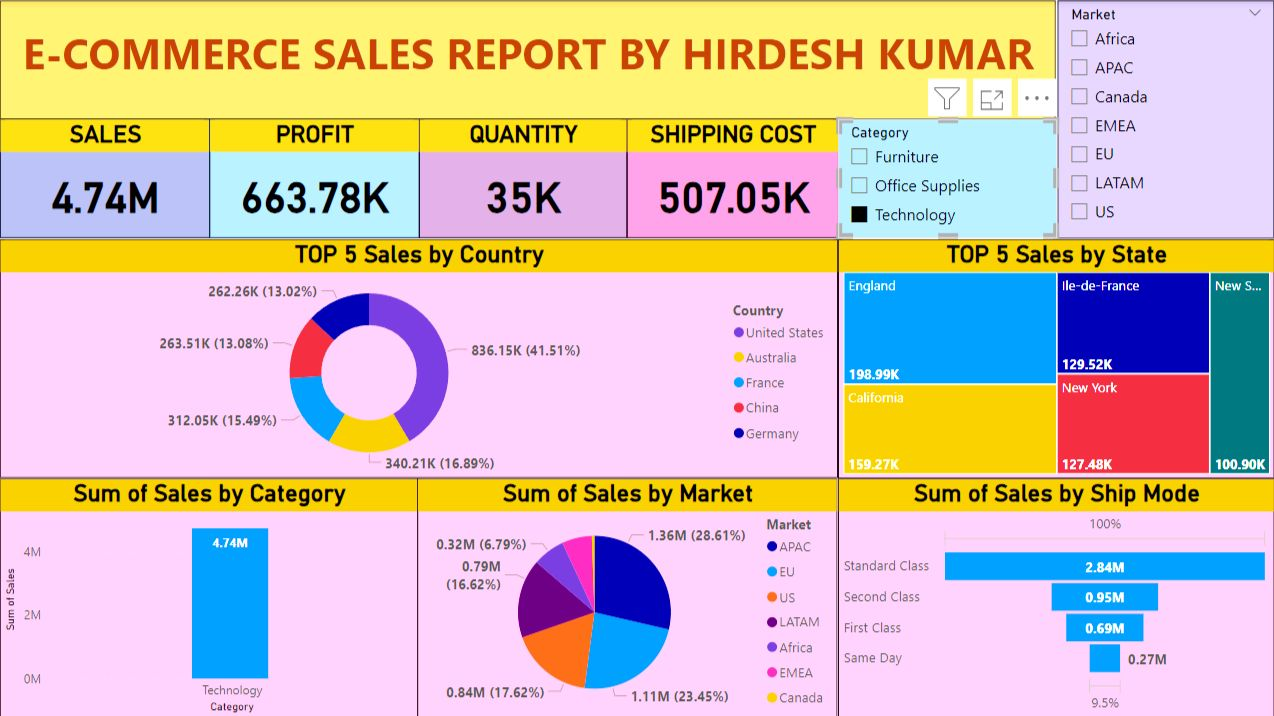

This screenshot's page, from the dashboard's own definition file:
{"tool":"powerbi","page":{"name":"Page 1","canvas":[1280,720],"ordinal":0},"visuals":[{"type":"columnChart","fields":{"Category":["Orders.Category"],"Y":["Sum(Orders.Sales)"]},"box":[0,480,420,240],"z":0},{"type":"pieChart","fields":{"Category":["Orders.Market"],"Y":["Sum(Orders.Sales)"]},"box":[420,480,421.8,240],"z":1000},{"type":"funnel","fields":{"Category":["Orders.Ship Mode"],"Y":["Sum(Orders.Sales)"]},"box":[841.8,480,438.2,240],"z":2000},{"type":"donutChart","title":"TOP 5 Sales by Country","fields":{"Category":["Orders.Country"],"Y":["Sum(Orders.Sales)"]},"box":[0,239.6,841.7,239.6],"z":3000},{"type":"treemap","title":"TOP 5 Sales by State","fields":{"Group":["Orders.State"],"Values":["Sum(Orders.Sales)"]},"box":[841.8,240,438.2,240],"z":4000},{"type":"card","title":"SALES","fields":{"Values":["Sum(Orders.Sales)"]},"box":[0,119.6,210.7,119.6],"z":5000},{"type":"card","title":"PROFIT","fields":{"Values":["Sum(Orders.Profit)"]},"box":[210.7,119.6,210.7,119.6],"z":6000},{"type":"card","title":"QUANTITY","fields":{"Values":["Sum(Orders.Quantity)"]},"box":[421.4,119.6,208.9,119.6],"z":7000},{"type":"card","title":"SHIPPING COST","fields":{"Values":["Sum(Orders.Shipping Cost)"]},"box":[630.4,119.6,212.5,119.6],"z":8000},{"type":"slicer","fields":{"Values":["Orders.Category"]},"box":[842.9,119.6,219.6,119.6],"z":9000},{"type":"slicer","fields":{"Values":["Orders.Market"]},"box":[1062.5,0,217.9,239.3],"z":10000},{"type":"textbox","box":[0,0,1060.7,119.6],"z":11000}]}

Visuals, with their boxes on the page's 1280x720 design canvas (x1, y1, x2, y2). These are canvas units, not pixel positions in the 1274x716 screenshot, which may show the page scaled, cropped or inside an application window:
columnChart - Orders.Category x Sum(Orders.Sales): (x1=0, y1=480, x2=420, y2=720)
pieChart - Orders.Market x Sum(Orders.Sales): (x1=420, y1=480, x2=842, y2=720)
funnel - Orders.Ship Mode x Sum(Orders.Sales): (x1=842, y1=480, x2=1280, y2=720)
"TOP 5 Sales by Country" donutChart: (x1=0, y1=240, x2=842, y2=479)
"TOP 5 Sales by State" treemap: (x1=842, y1=240, x2=1280, y2=480)
"SALES" card: (x1=0, y1=120, x2=211, y2=239)
"PROFIT" card: (x1=211, y1=120, x2=421, y2=239)
"QUANTITY" card: (x1=421, y1=120, x2=630, y2=239)
"SHIPPING COST" card: (x1=630, y1=120, x2=843, y2=239)
slicer - Orders.Category: (x1=843, y1=120, x2=1062, y2=239)
slicer - Orders.Market: (x1=1062, y1=0, x2=1280, y2=239)
textbox: (x1=0, y1=0, x2=1061, y2=120)
